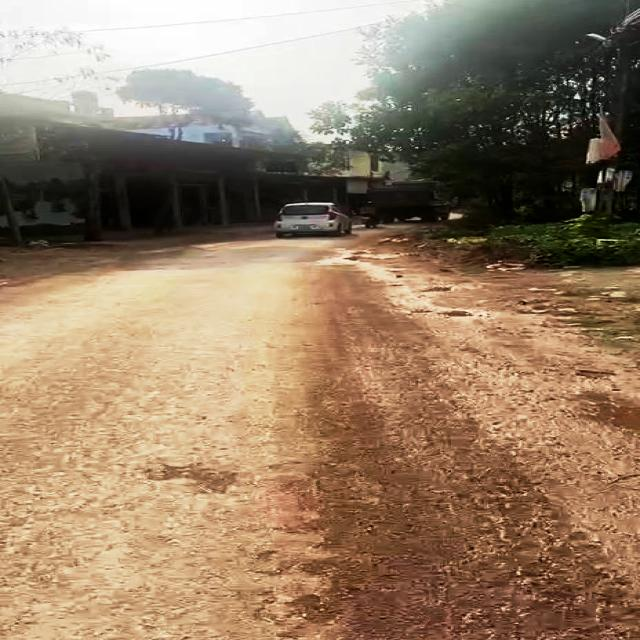pothole: (594, 400, 640, 437), (433, 306, 483, 320)
